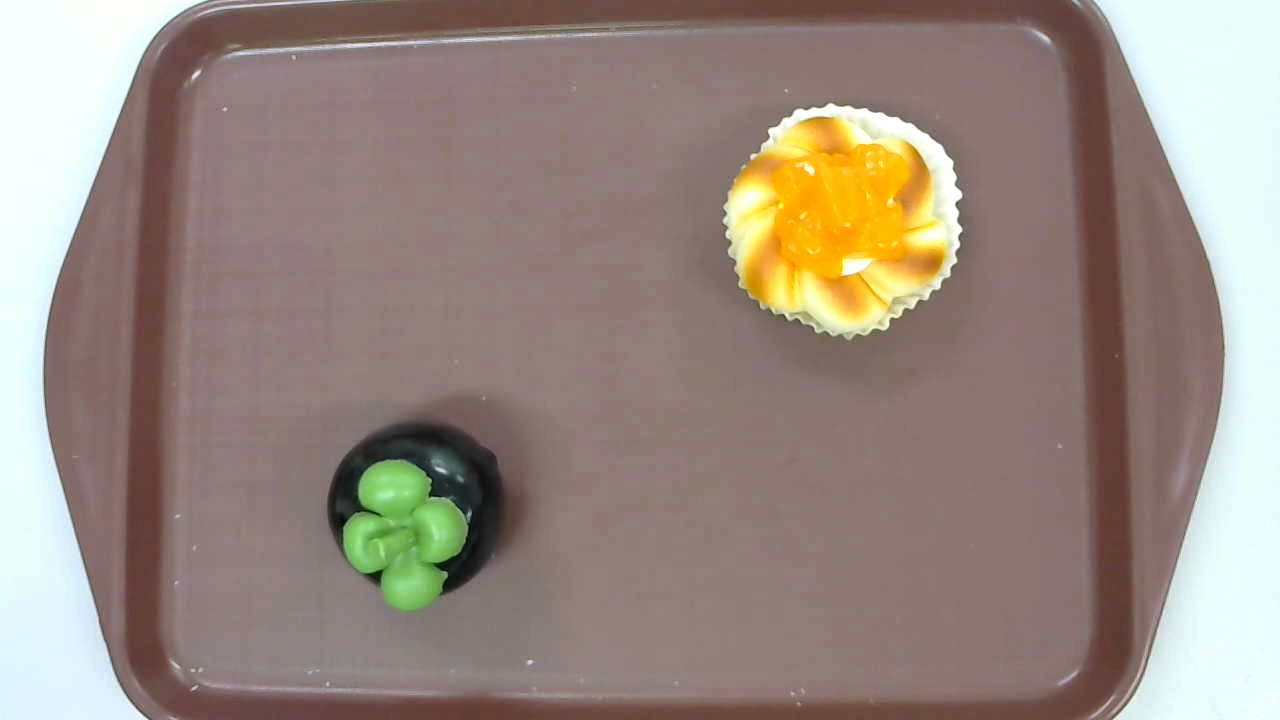mango tart: (722, 103, 962, 340)
mangosteen: (325, 421, 504, 609)
